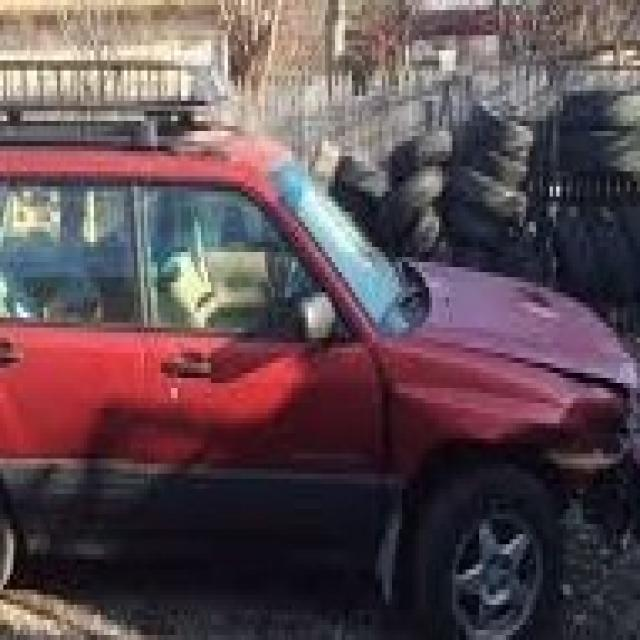minor: (506, 340, 636, 469)
